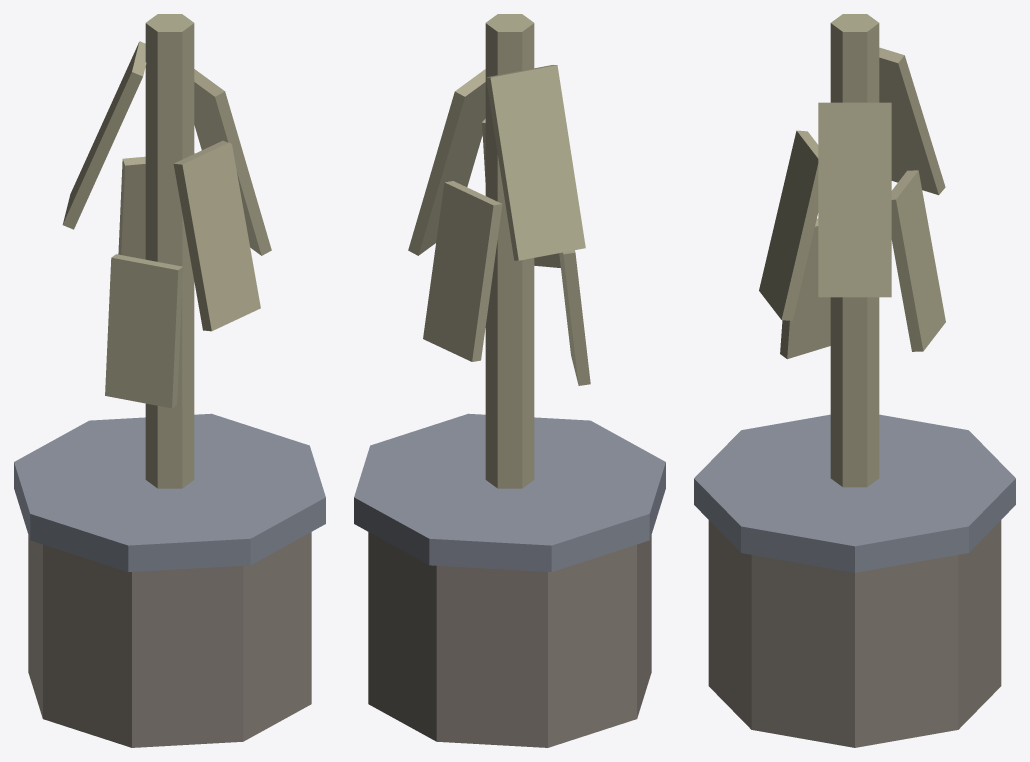
Rendered from welt_pflanze.glb.
3 views of the same model, side by side, from view 1: azimuth 30°, elevation 25°; view 2: azimuth 150°, elevation 25°; view 3: azimuth 270°, elevation 25° (orthographic).
Parts seen in each view (by area): view 1: topf, topf_rand, stamm, blatt_4, blatt_3, blatt_0, blatt_2, blatt_1; view 2: topf, topf_rand, stamm, blatt_2, blatt_1, blatt_0, blatt_3; view 3: topf, topf_rand, blatt_0, stamm, blatt_4, blatt_1, blatt_2, blatt_3.
Part boxes in pixels (x1,y1,x2,y2): topf: (28, 532, 311, 747); topf_rand: (14, 413, 325, 572); stamm: (145, 14, 194, 488); blatt_4: (173, 140, 260, 331); blatt_3: (105, 254, 183, 408); blatt_0: (194, 69, 271, 255); blatt_2: (62, 41, 146, 229); blatt_1: (118, 153, 194, 259); topf: (368, 532, 651, 747); topf_rand: (354, 413, 665, 572); stamm: (485, 14, 534, 488); blatt_2: (486, 65, 585, 260); blatt_1: (423, 181, 502, 361); blatt_0: (408, 69, 485, 255); blatt_3: (559, 250, 590, 385); topf: (708, 520, 1001, 747); topf_rand: (694, 414, 1015, 572); blatt_0: (818, 102, 891, 297); stamm: (830, 14, 879, 487); blatt_4: (759, 130, 818, 320); blatt_1: (891, 170, 945, 351); blatt_2: (879, 47, 945, 195); blatt_3: (780, 218, 830, 359).
Size of the model in its own units: 0.66 by 1.5 by 0.66.
